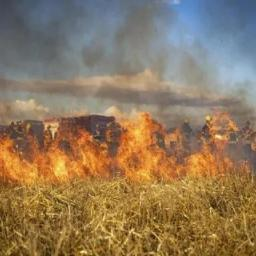Low smoke: (2, 2, 198, 106)
Medium fire: (3, 112, 246, 187)
